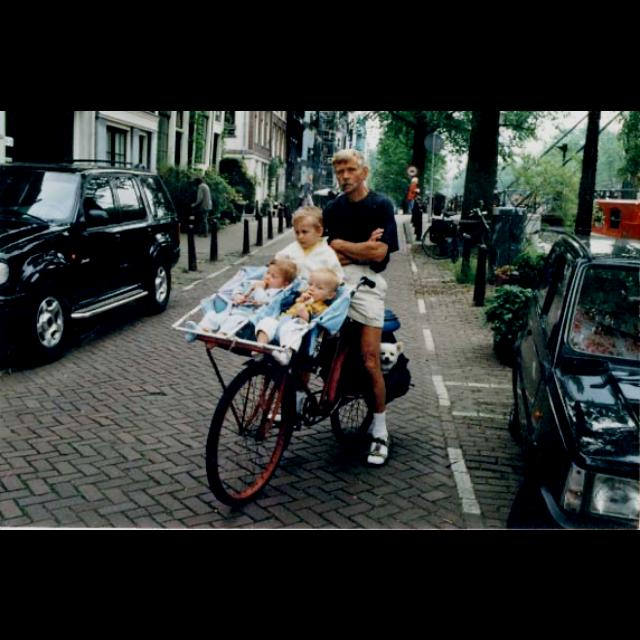Without Helmet: (324, 144, 374, 200), (291, 206, 327, 247), (305, 266, 337, 306), (260, 256, 296, 290)
